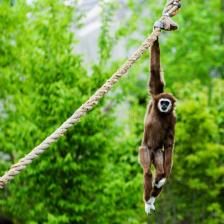monkey: (140, 29, 178, 213)
